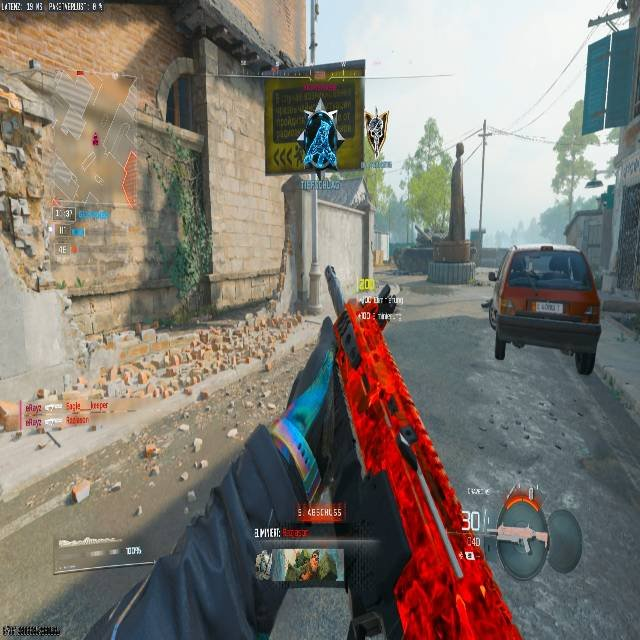player: (298, 98, 339, 170), (368, 110, 386, 153)
